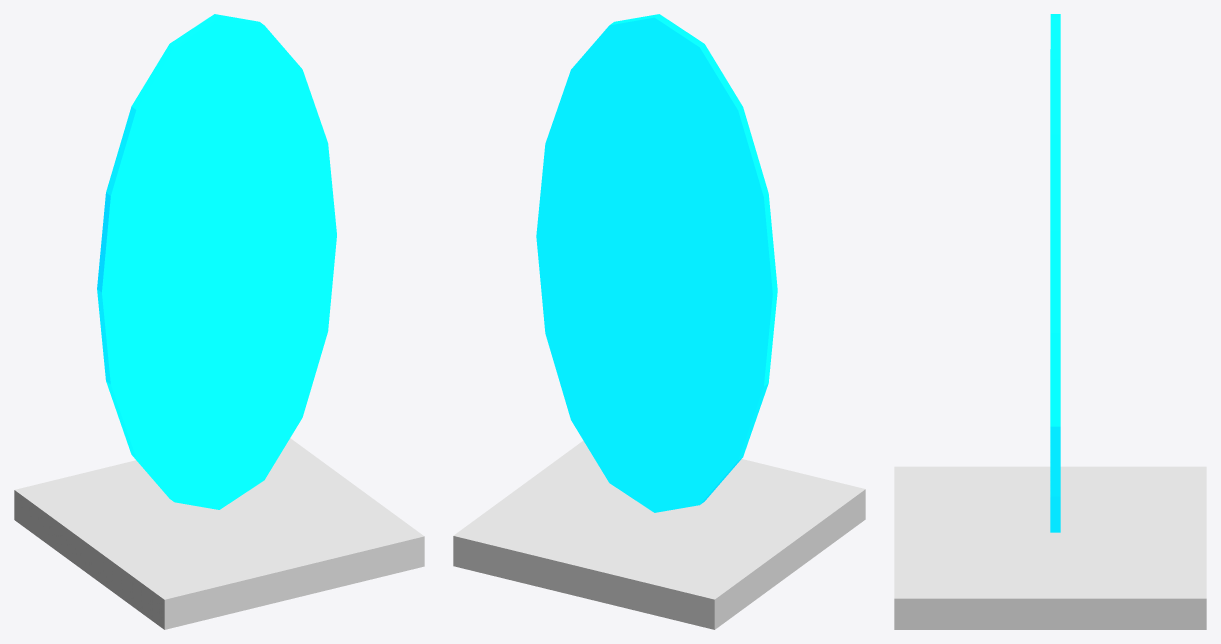
File: Portal.fbx
3 renders of one model, left to right at view 1: azimuth 30°, elevation 25°; view 2: azimuth 150°, elevation 25°; view 3: azimuth 270°, elevation 25°, orthographic. The views are drawn at different scales.
Parts seen in each view (by area): view 1: Portal; view 2: Portal; view 3: Portal.
Boxes of the visible parts, x1,y1,x2,y2 form: Portal: (14,14,424,629); Portal: (453,14,865,629); Portal: (894,14,1206,629).
Bounding box in the file's own units: 99.01 × 191 × 99.01.
